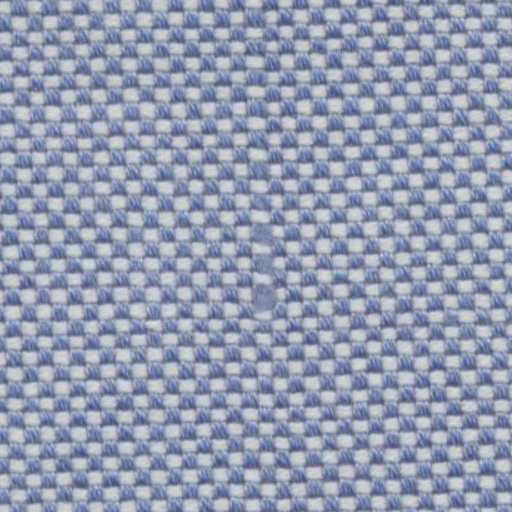TuoSha: (213, 18, 289, 298)
